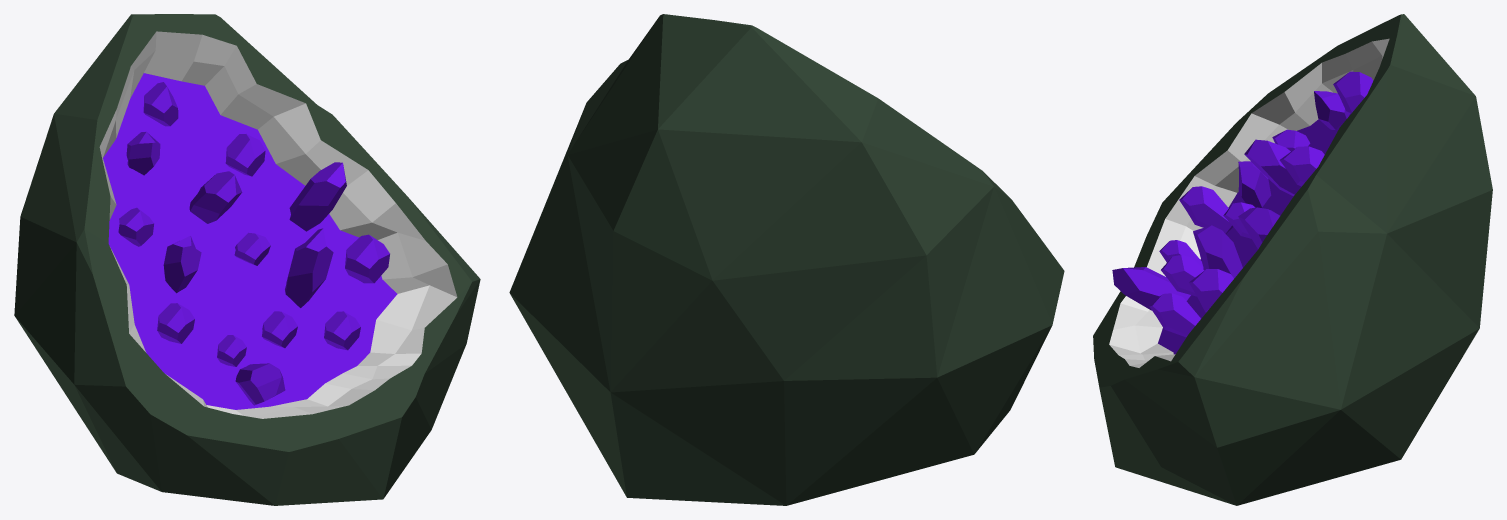
The model's file is fourthmineral.glb.
3 views of the same model, side by side, from view 1: azimuth 30°, elevation 25°; view 2: azimuth 150°, elevation 25°; view 3: azimuth 270°, elevation 25° (orthographic). The views are drawn at different scales.
Parts seen in each view (by area): view 1: crystal_geode_purple; view 2: crystal_geode_purple; view 3: crystal_geode_purple.
Part boxes in pixels (<box>): crystal_geode_purple: <box>14,14,480,505</box>; crystal_geode_purple: <box>509,14,1064,505</box>; crystal_geode_purple: <box>1093,14,1492,505</box>.
Size of the model in its own units: 1.69 by 1.71 by 1.51.
